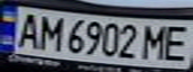0: (100, 20, 121, 58)
2: (118, 20, 142, 60)
6: (63, 16, 87, 55)
9: (81, 18, 103, 56)
A: (12, 10, 45, 48)
E: (160, 21, 193, 62)
M: (139, 21, 172, 61), (33, 12, 66, 51)
